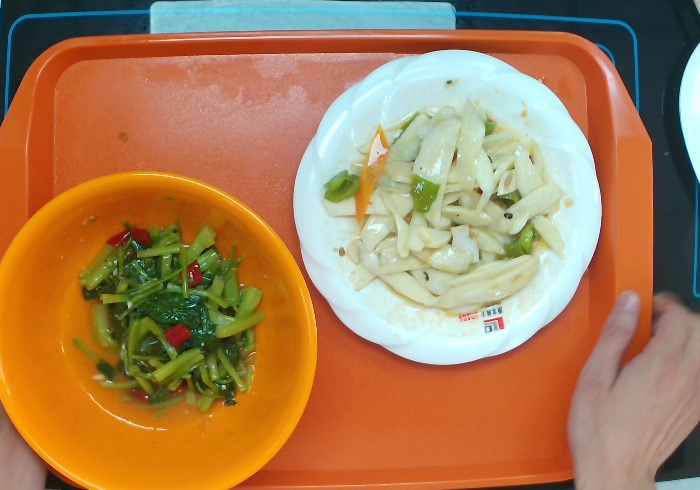ZNLD-Hua_Bian_Wan: (282, 43, 610, 374)
ZNLD-Ju_Se_Tang_Wan: (1, 159, 328, 490)
